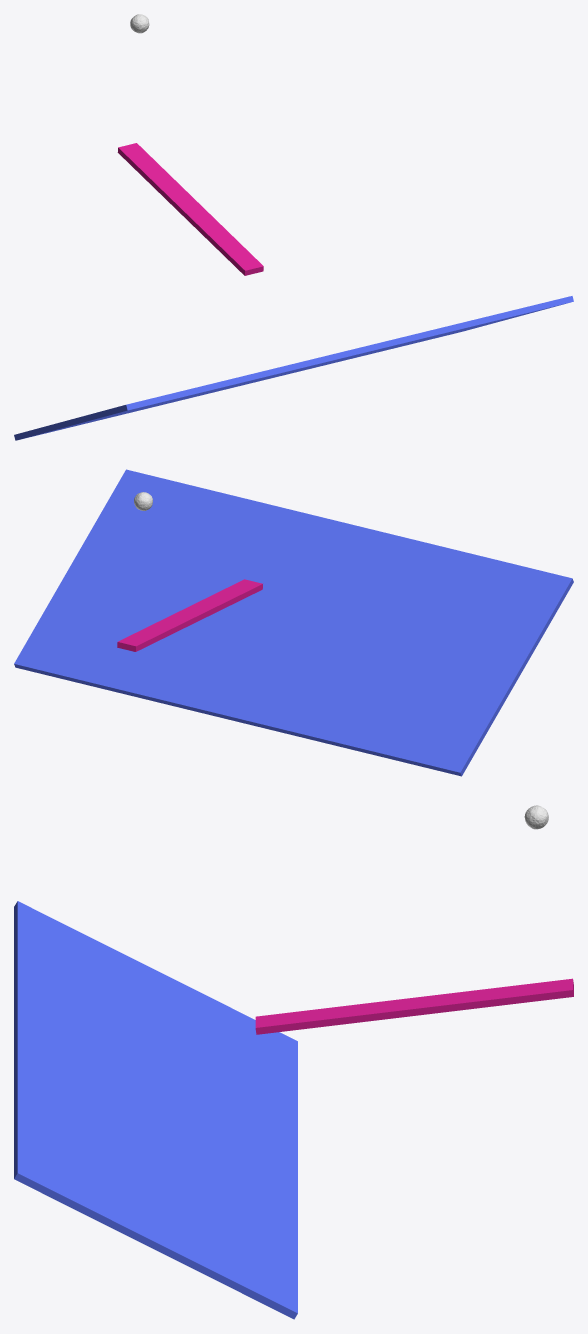
File: map.glb
The picture shows the model from 3 angles, top to bottom: view 1: azimuth 30°, elevation 25°; view 2: azimuth 150°, elevation 25°; view 3: azimuth 270°, elevation 25°; orthographic projection. The views are drawn at different scales.
Visible parts, largest first — view 1: ground, ground.001; view 2: ground, ground.001; view 3: ground, ground.001.
Part boxes in pixels (bbox=[...]): ground: bbox=[14, 296, 573, 440]; ground.001: bbox=[117, 143, 263, 275]; ground: bbox=[14, 469, 573, 776]; ground.001: bbox=[117, 579, 262, 651]; ground: bbox=[14, 901, 297, 1319]; ground.001: bbox=[255, 978, 573, 1034].
Size of the model in its own units: 16.85 by 10.85 by 14.65.
